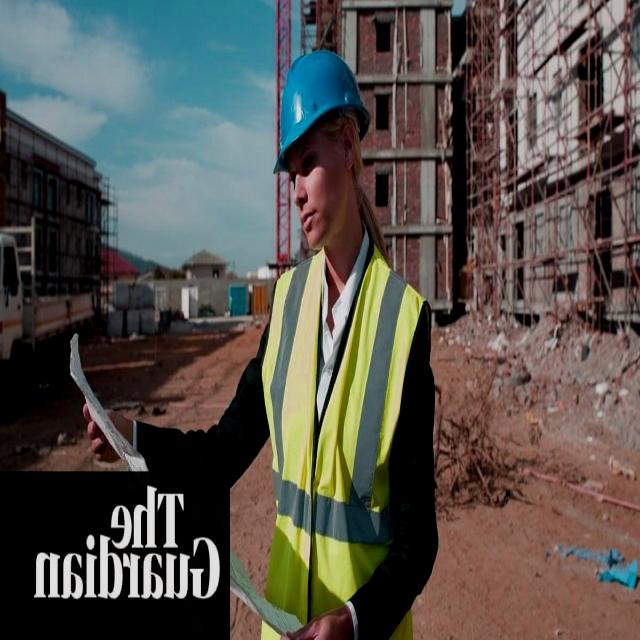face_nomask: (283, 125, 340, 253)
head_helmet: (273, 49, 369, 177)
person: (257, 45, 411, 639)
vest: (263, 249, 420, 637)
